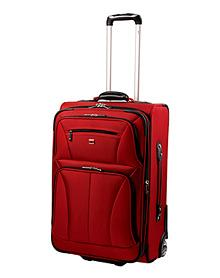suitcase: (50, 12, 169, 267)
